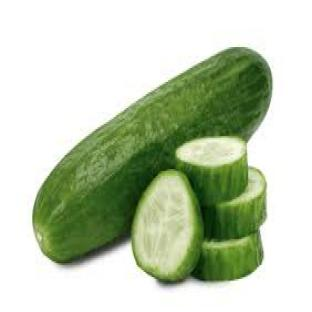Cucumber: (34, 48, 272, 261), (132, 170, 203, 282), (176, 136, 247, 205), (204, 168, 266, 240), (193, 232, 263, 280)
